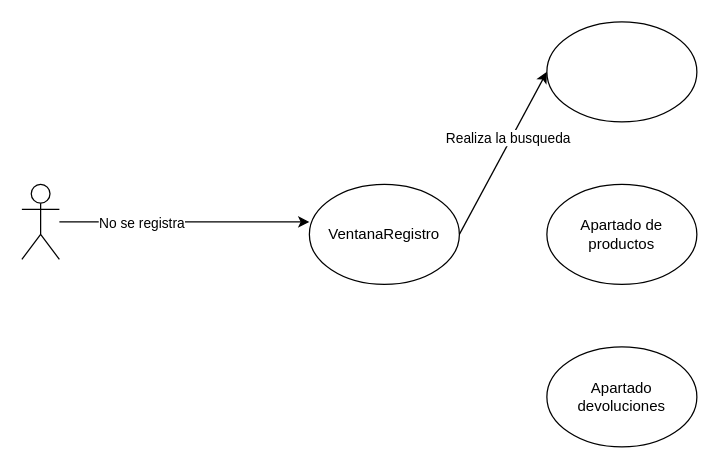
Image size: 719x469. Some labels were removed from this diagram. The shapes that lost their labels are listed below. From the top down, each one's centre as x and y in pixels, then its label:
At (621,71): "Barra busqueda".
At (40,221): "Actor".
